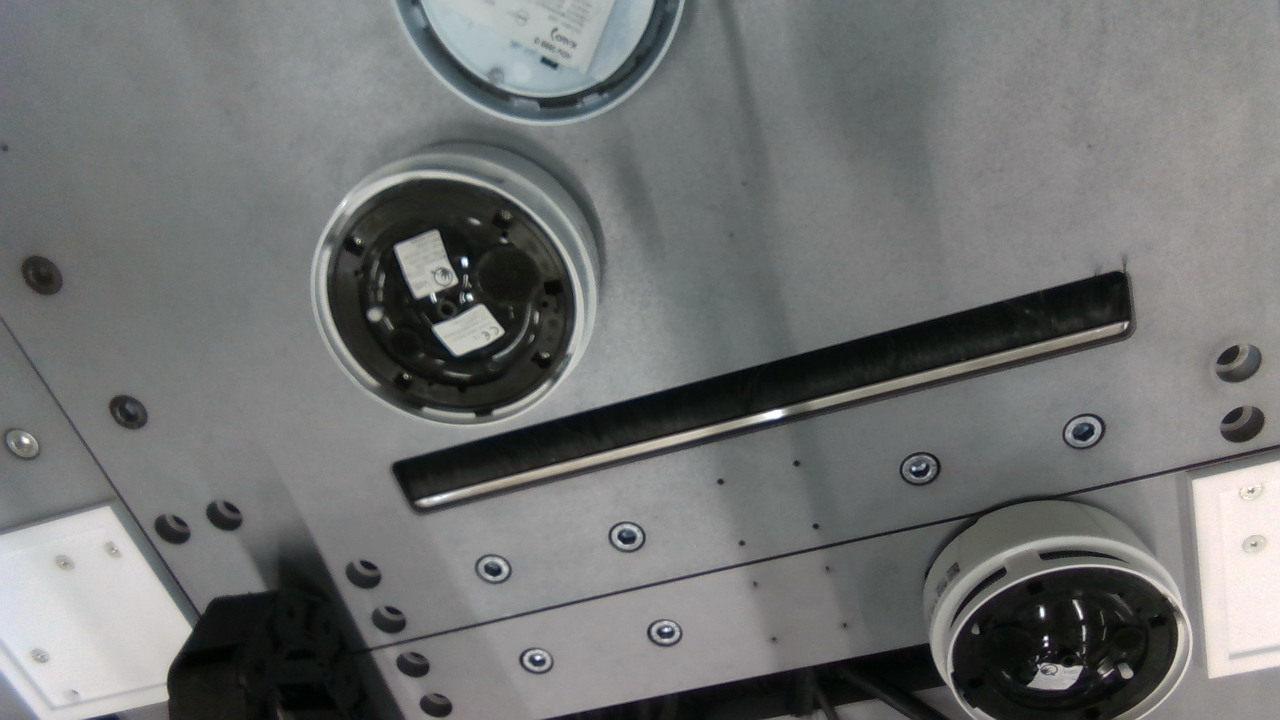HexScrew: (485, 64, 508, 89), (530, 350, 553, 368), (392, 370, 412, 387), (345, 235, 363, 251), (495, 208, 514, 222)
